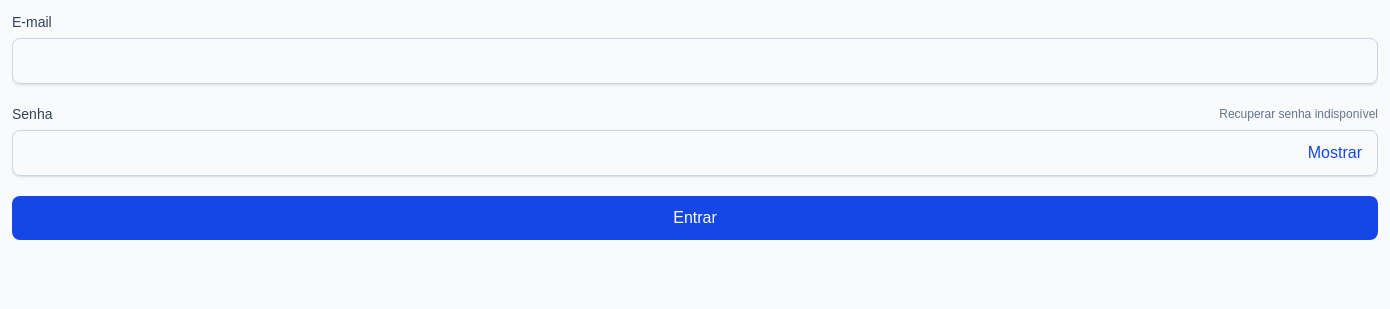
Test: LoginForm › mostra erros de validação sem enviar credenciais inválidas
Click the button "Entrar".
click(695, 218)  # box [12,196,1378,240]
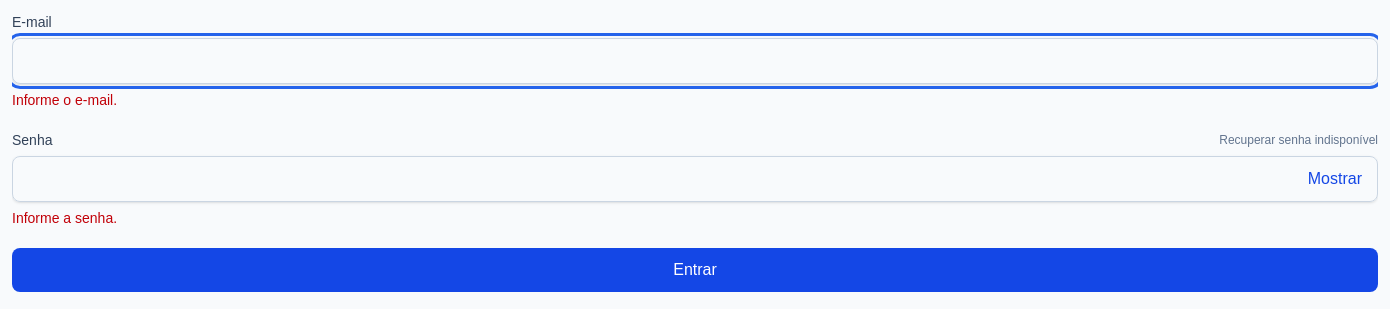
Now the text "Informe o e-mail." is shown, box [12,92,117,108]
